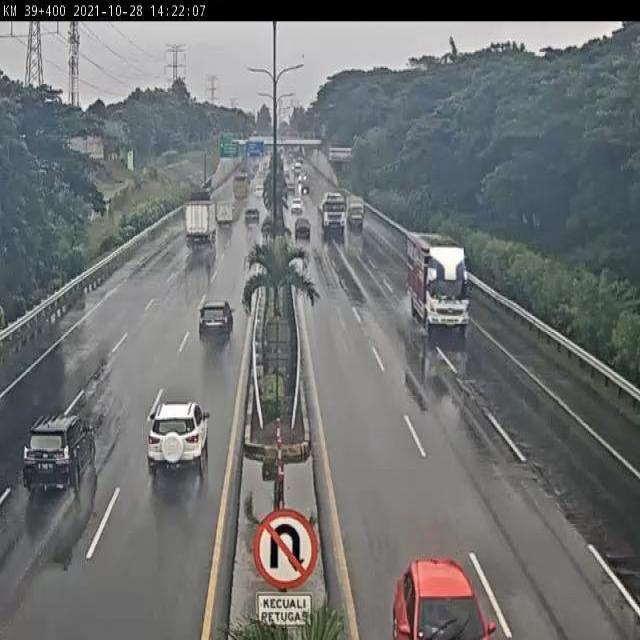car: (22, 412, 99, 501), (241, 204, 261, 229), (295, 216, 314, 241)
truck-l-: (402, 226, 469, 330), (183, 199, 218, 244)
truck-s-: (214, 196, 236, 229)
truck-xl-: (320, 190, 351, 238)
